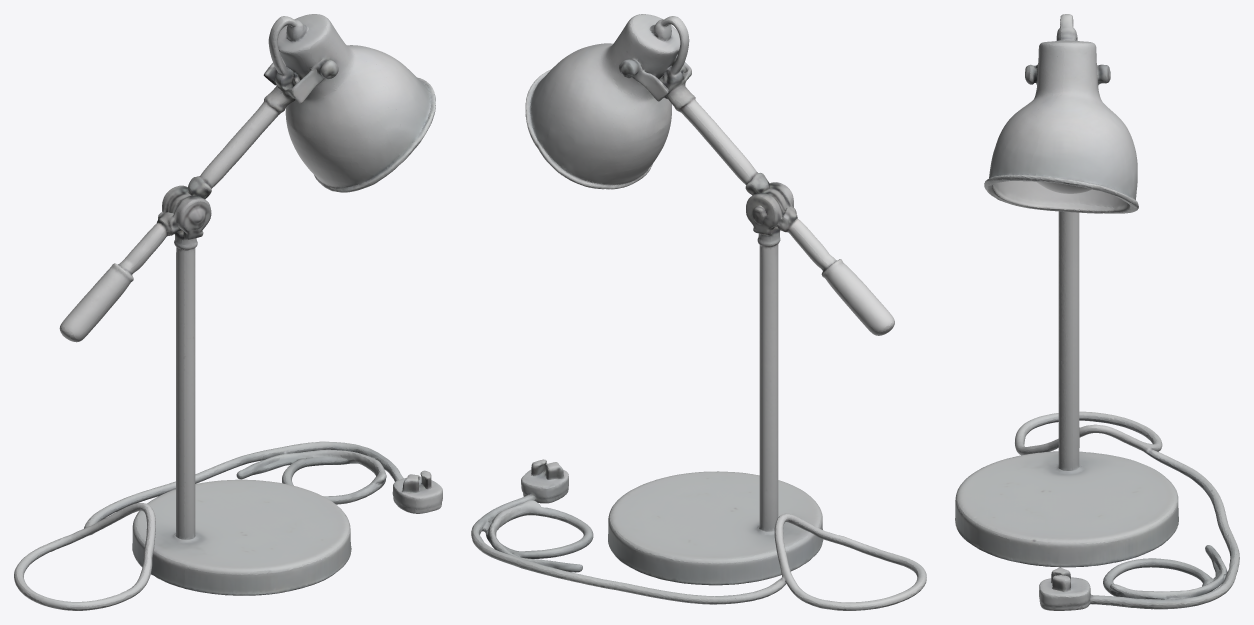
File: source.glb
The picture shows the model from 3 angles, left to right: view 1: azimuth 30°, elevation 25°; view 2: azimuth 150°, elevation 25°; view 3: azimuth 270°, elevation 25°; orthographic projection. The views are drawn at different scales.
Parts seen in each view (by area): view 1: world; view 2: world; view 3: world.
Part boxes in pixels (box(x1,y1,x2,y2)): world: box(14, 14, 442, 610); world: box(471, 14, 926, 610); world: box(955, 14, 1239, 610).
Bounding box in the file's own units: 0.3892 × 0.48 × 0.2343.
1 material, 1 textured.
